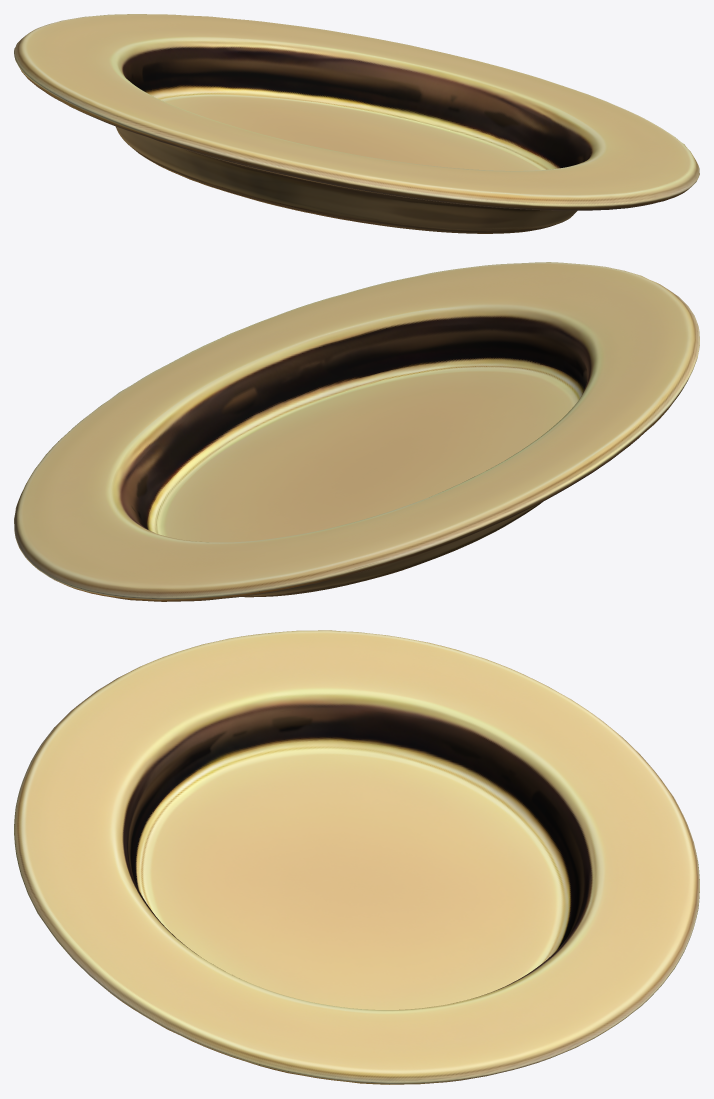
Rendered from Plate.fbx.
The picture shows the model from 3 angles, top to bottom: view 1: azimuth 30°, elevation 25°; view 2: azimuth 150°, elevation 25°; view 3: azimuth 270°, elevation 25°; orthographic projection. The views are drawn at different scales.
Parts seen in each view (by area): view 1: Plate; view 2: Plate; view 3: Plate.
Part boxes in pixels (left/top/right/bottom): Plate: left=14, top=14, right=699, bottom=233; Plate: left=14, top=262, right=699, bottom=601; Plate: left=14, top=630, right=699, bottom=1084.
Size of the model in its own units: 63.67 by 21.71 by 65.6.
